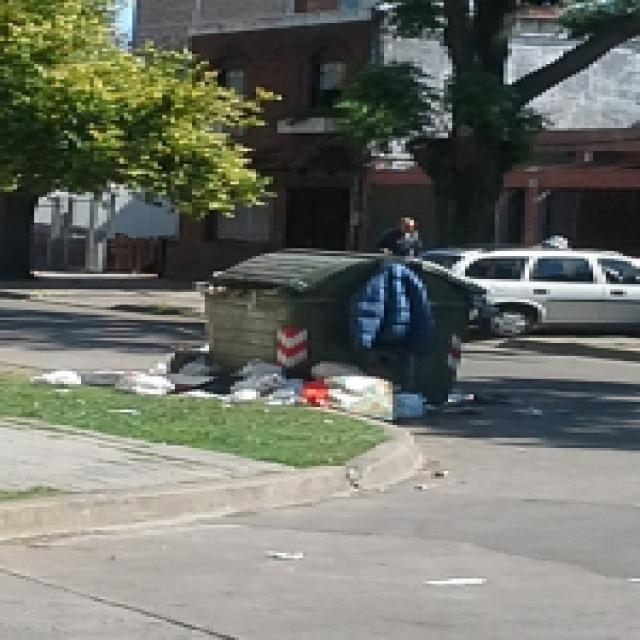garbage: (222, 356, 414, 417), (30, 358, 205, 392)
